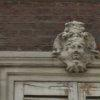Statue: (50, 16, 99, 83)
